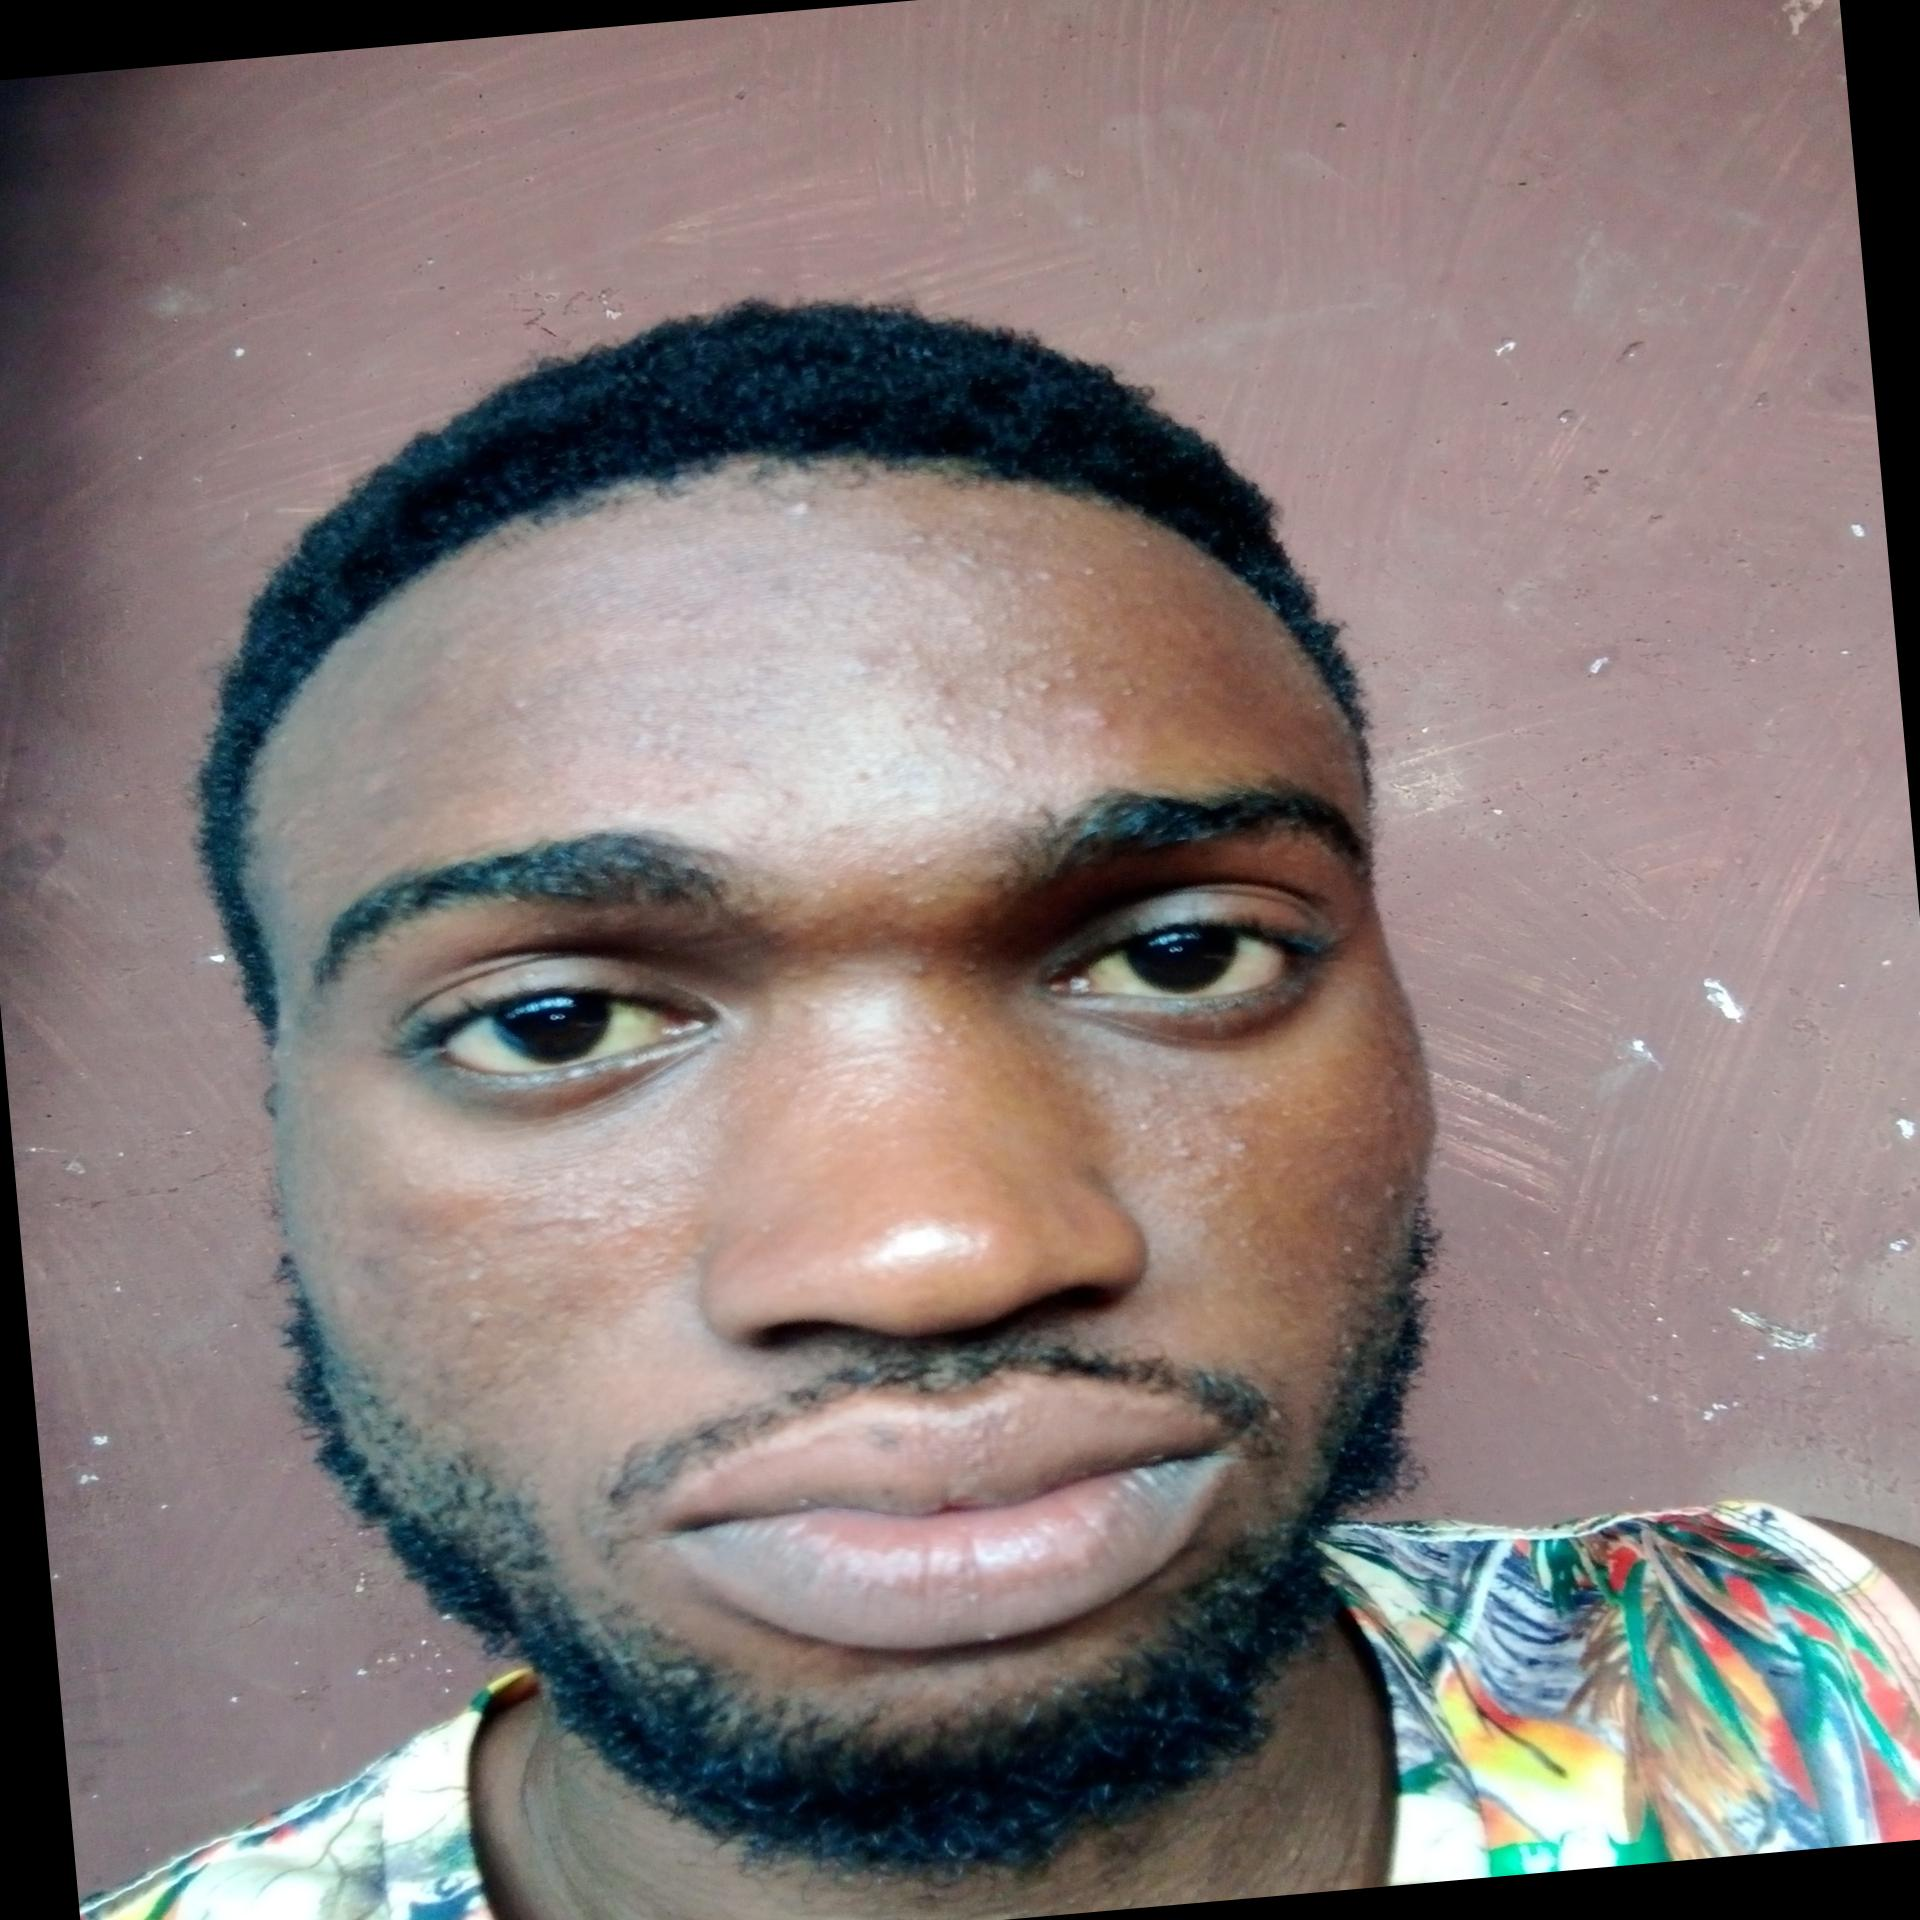Acne: (840, 642, 897, 675), (666, 784, 726, 812), (1015, 679, 1058, 714), (543, 1203, 608, 1224), (1166, 1131, 1201, 1164), (466, 1305, 499, 1335), (1094, 645, 1125, 675), (781, 496, 821, 519), (1225, 1134, 1257, 1162), (723, 756, 763, 777), (1264, 1155, 1294, 1183), (501, 693, 540, 714), (1375, 1178, 1403, 1204), (621, 1213, 651, 1238), (953, 545, 985, 568), (1204, 1162, 1233, 1187), (774, 781, 802, 805), (904, 958, 932, 981), (900, 527, 932, 547), (1094, 707, 1120, 730), (925, 680, 951, 703), (462, 1268, 491, 1289), (988, 703, 1011, 728), (1030, 566, 1062, 584), (986, 670, 1015, 689), (399, 1171, 427, 1190), (1138, 1092, 1166, 1111), (851, 767, 884, 782), (995, 564, 1020, 585), (884, 865, 913, 883), (911, 853, 937, 870), (619, 1173, 640, 1194), (1000, 753, 1022, 772), (1060, 663, 1085, 679)
